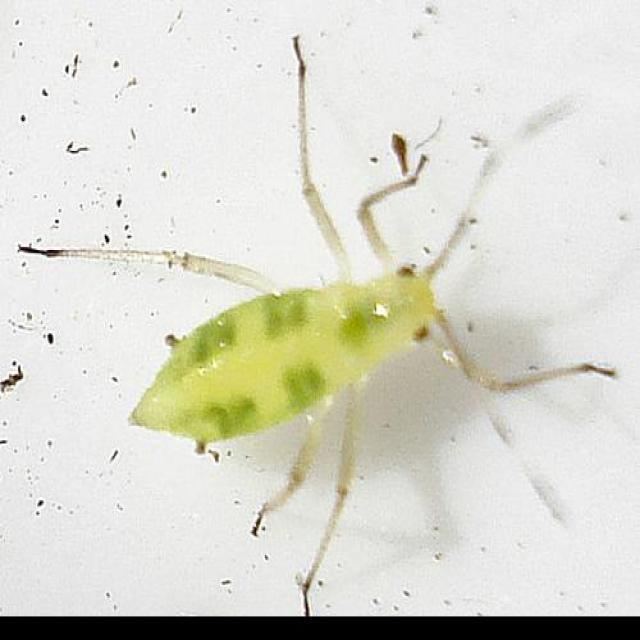aphid: (28, 68, 620, 586)
